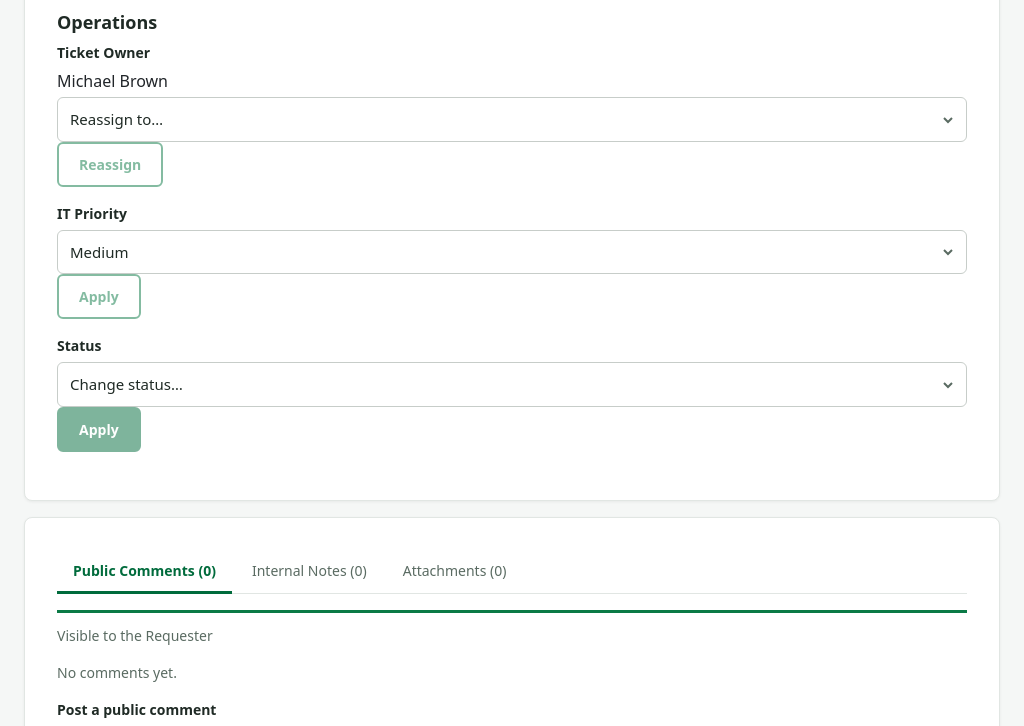
Scenario: UI-18: Staff detail error feedback › UI-18: a 409 conflict is shown inline and the typed input is retained (AC-57)
The image size is (1024, 726).
(page scrolled)
Select "Resolved" in the dropdown labelled "Status": (512, 385) [57, 362, 967, 407]
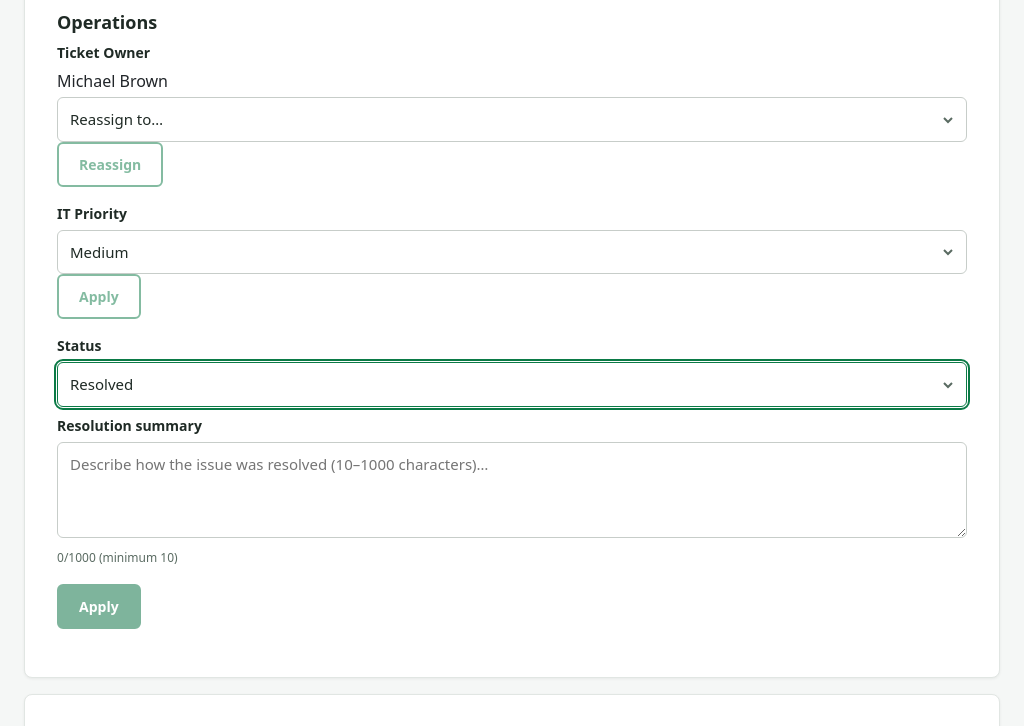
In the text box labelled "Resolution summary": (512, 490) [57, 442, 967, 538], type "Replaced the battery and verified boot."
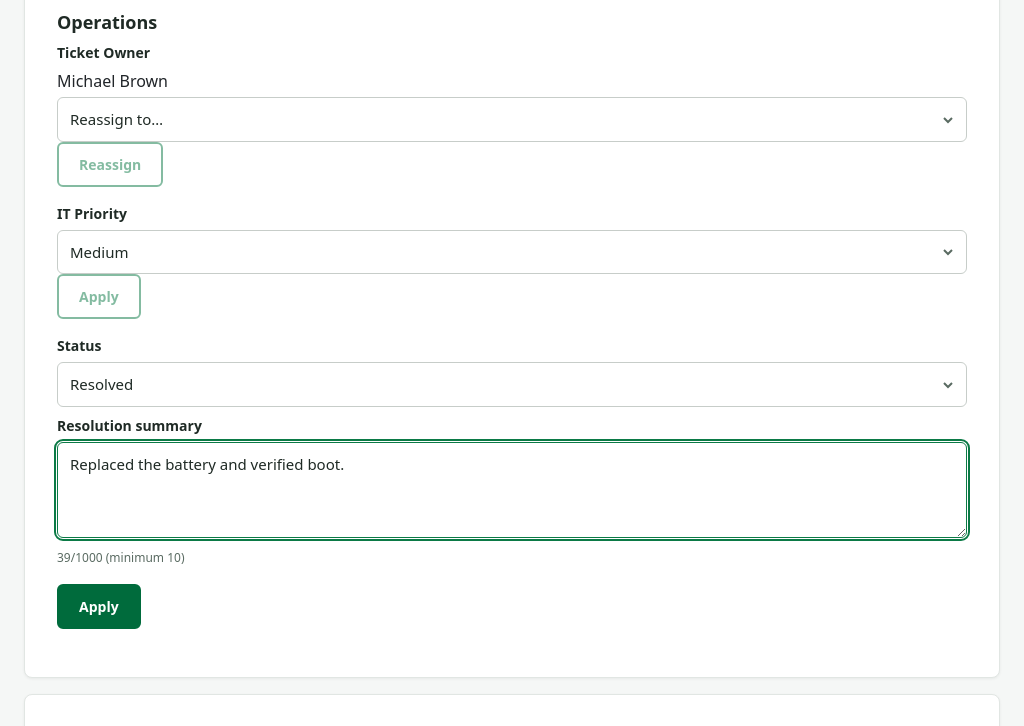
Click the button with aria-label "apply status change": (99, 606) [57, 584, 141, 629]
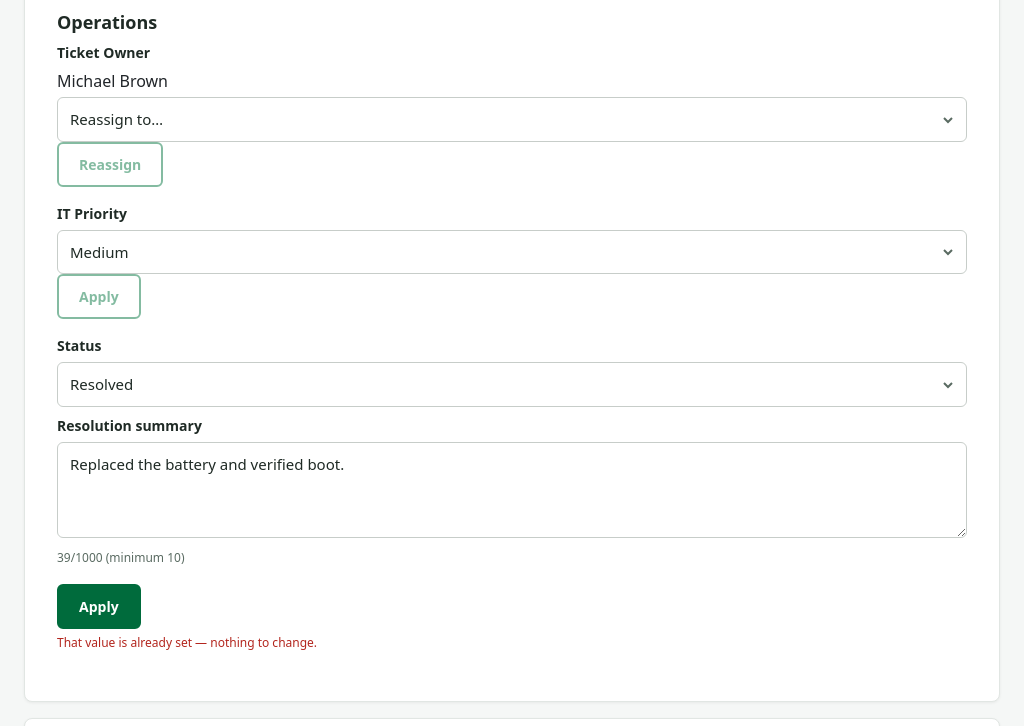
Check: the message reads "That value is already set — nothing to change.", box [57, 634, 317, 651]
